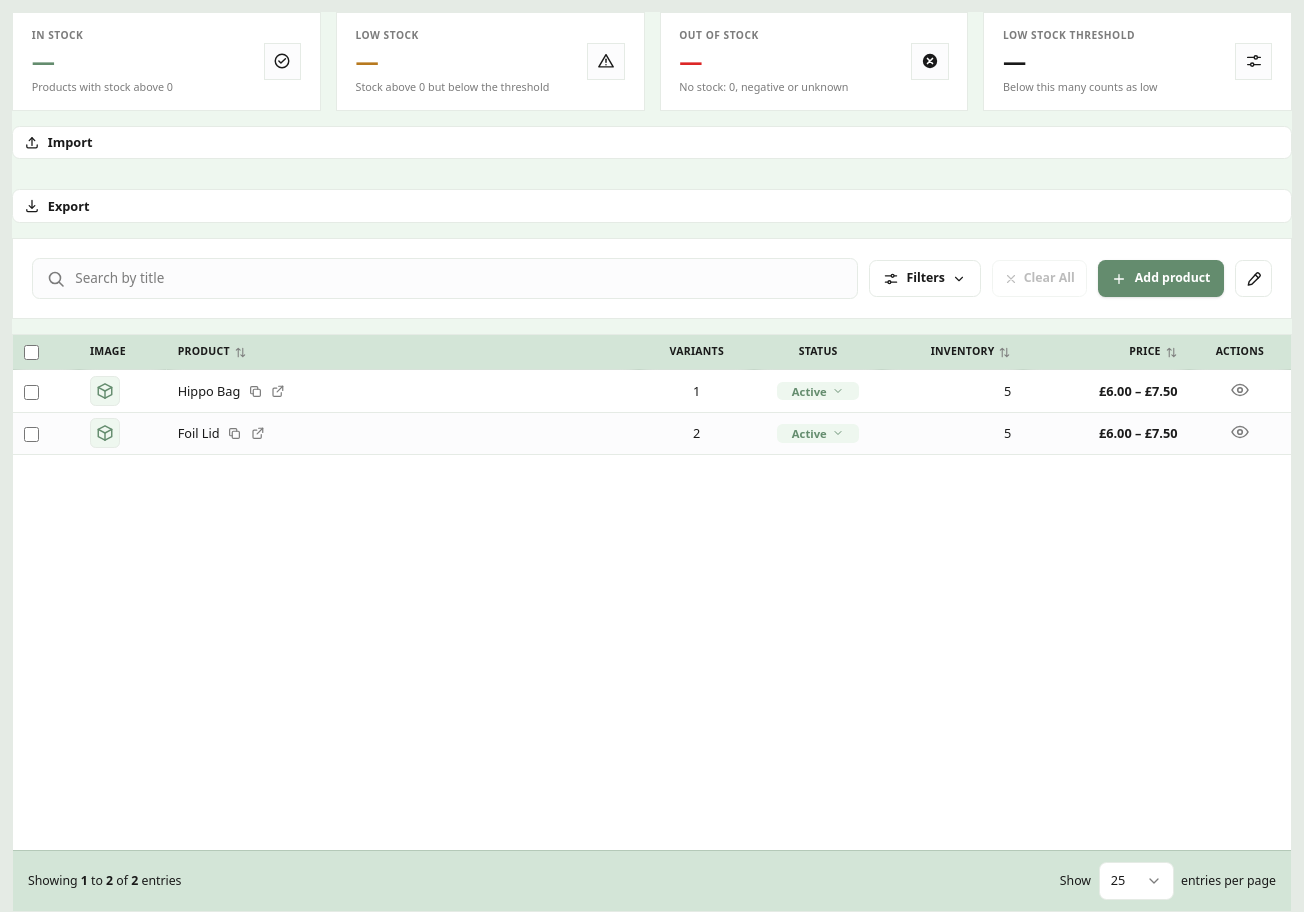
editing products in bulk › Clear All also unticks the ticked rows
Expected: the button "Clear All" is disabled, [992,260,1087,297]
Click the checkbox named "Select Hippo Bag".
click(32, 392)  # box [24,385,39,400]
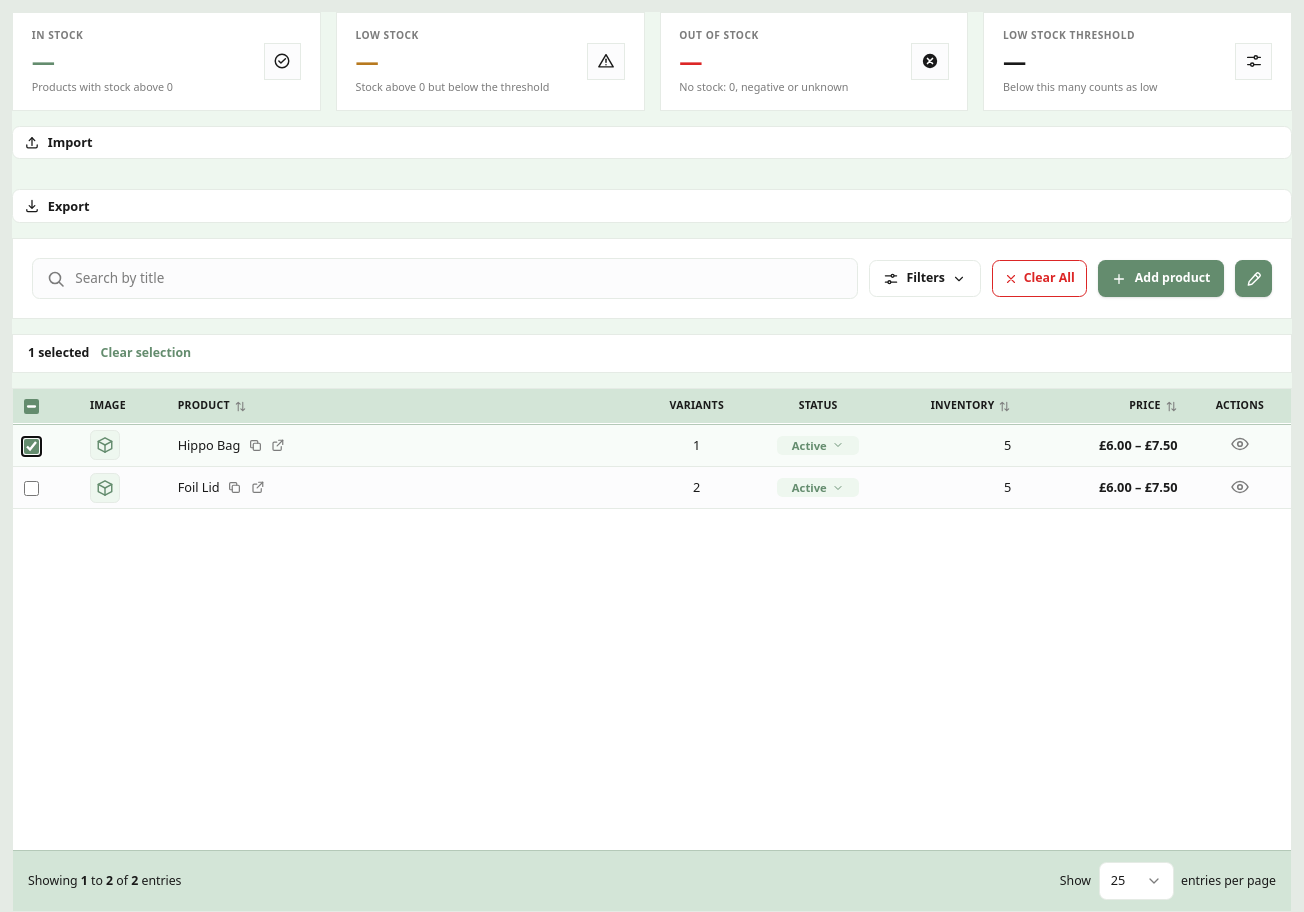
Now the text "1 selected" is shown, box [28,344,89,361]
Now the button "Clear All" is enabled
Click the button "Clear All".
click(1039, 279)  # box [992,260,1087,297]
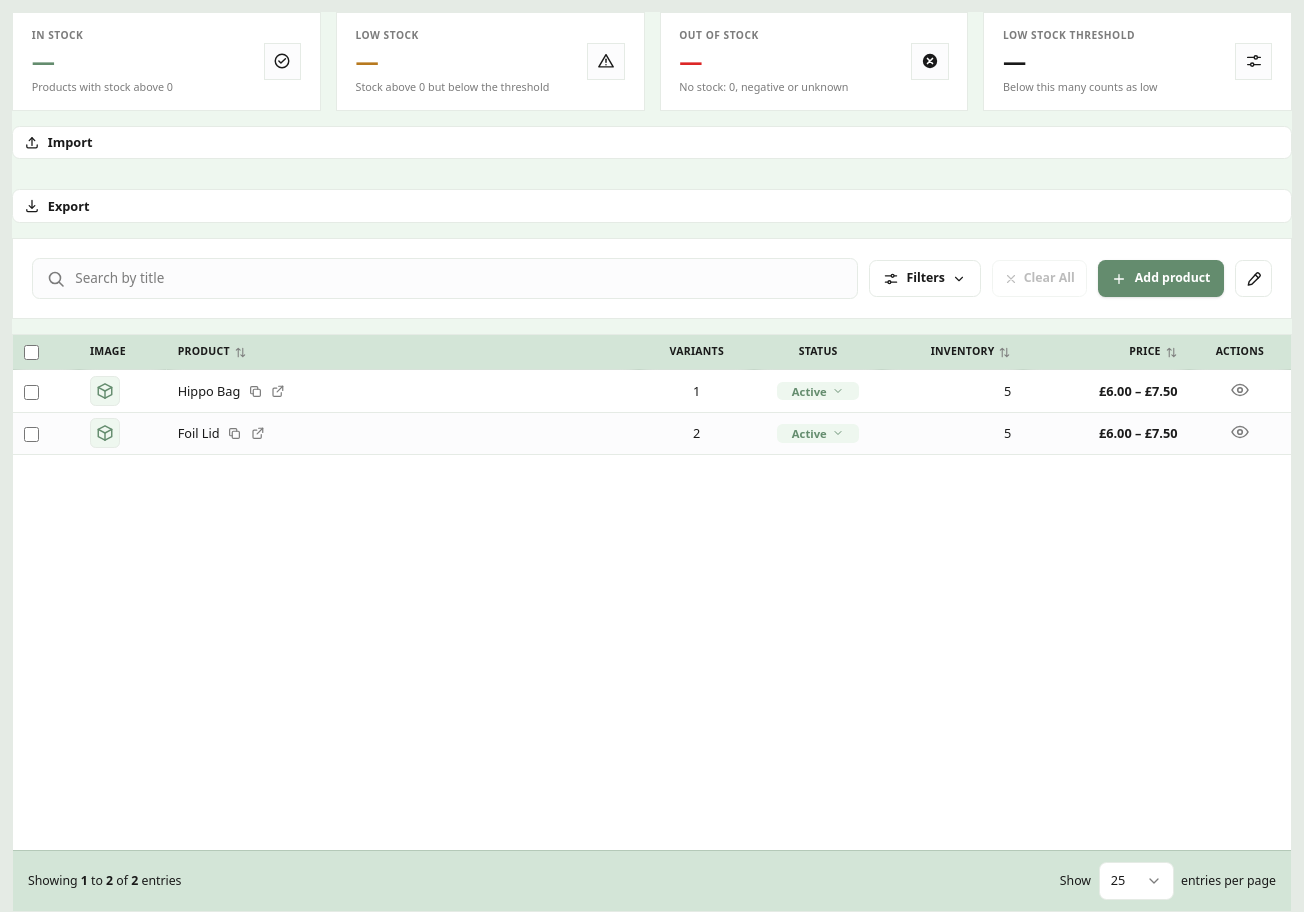
Now the checkbox named "Select Hippo Bag" is not checked, box [24,385,39,400]
Now the text "selected" is gone
Now the button "Clear All" is disabled, box [992,260,1087,297]
